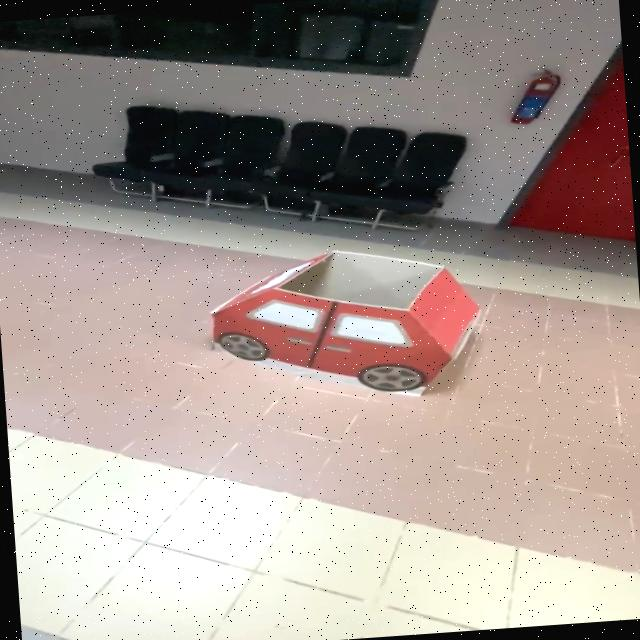red_car: (174, 222, 509, 414)
